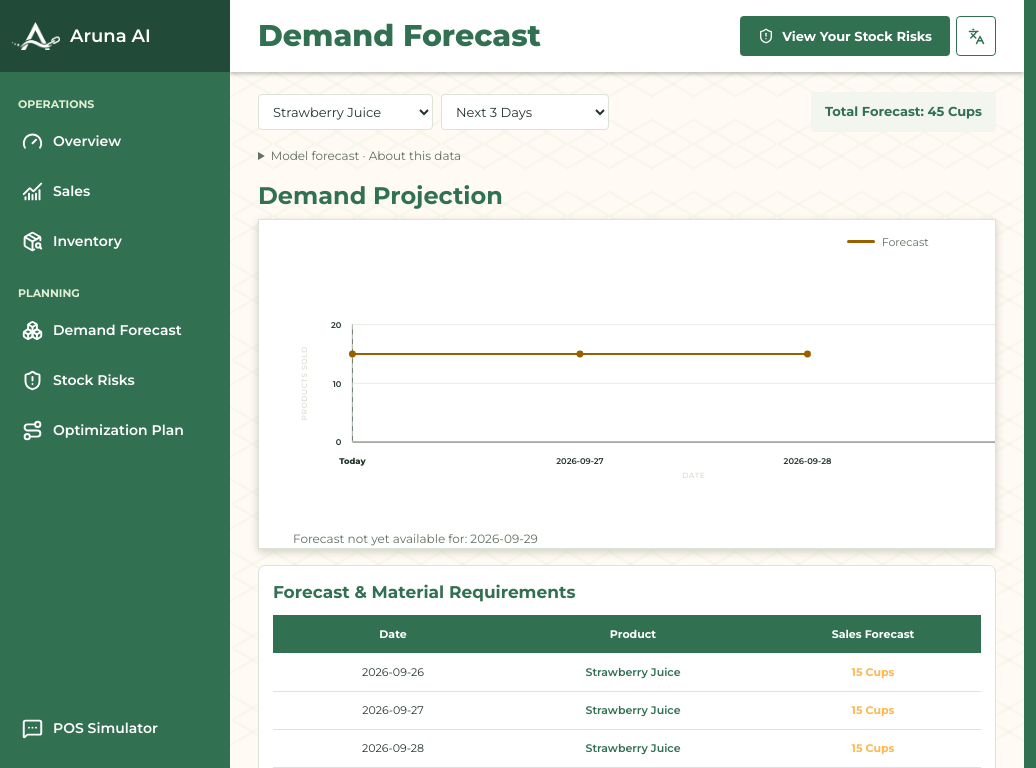
Test: shows XGBOOST provenance independently from synthetic training
Click the heading "Model forecast · About this data".
click(360, 155)  # box [258,146,461,165]
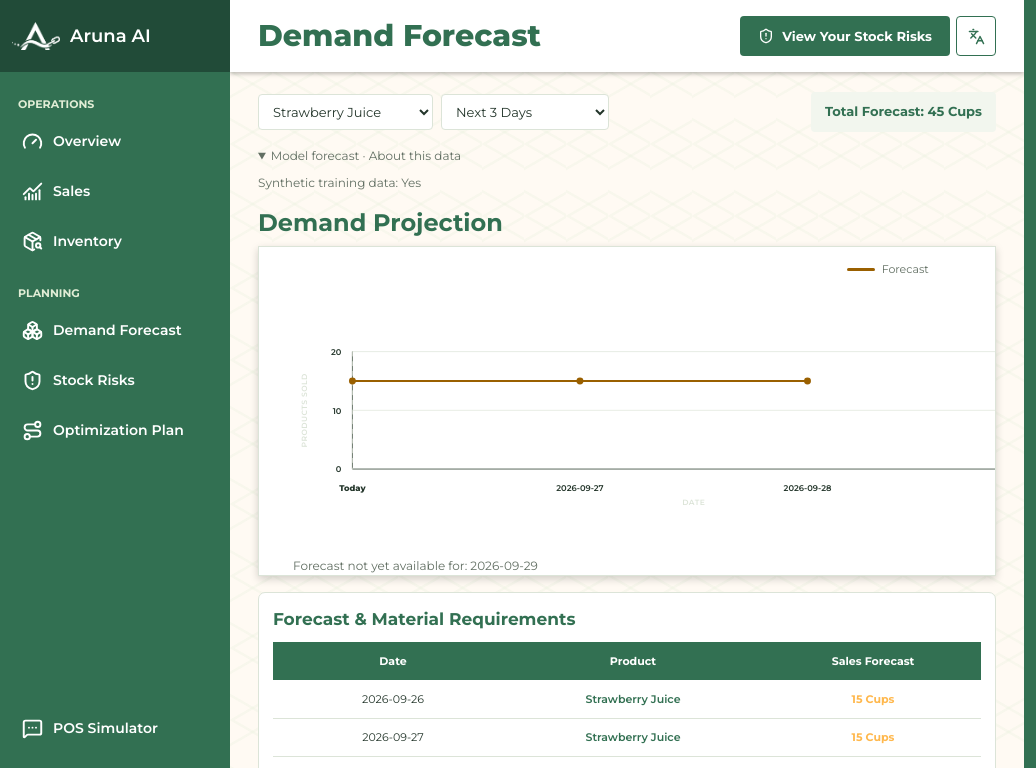
Expected: the text "Synthetic training data: Yes" is shown, [258,175,421,190]
Select "Both Ranges" in the 2nd dropdown named "Chart range" at (525, 112), box [441,94,609,130]
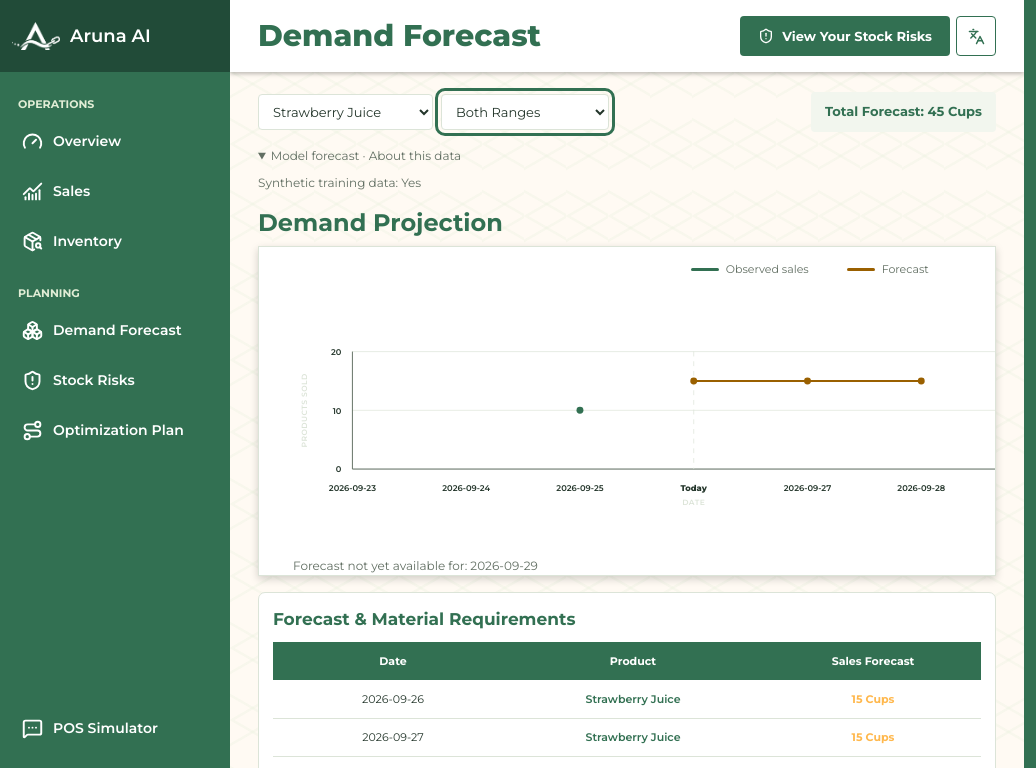
Expected: the text "Observed sales" is shown, [691,261,809,277]
